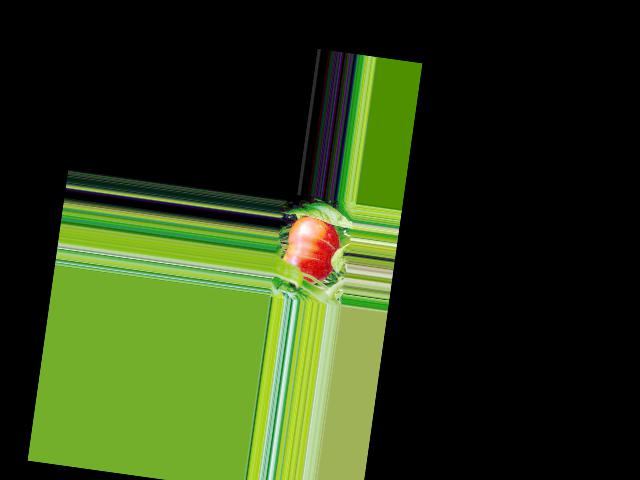tomato: (279, 213, 343, 287)
